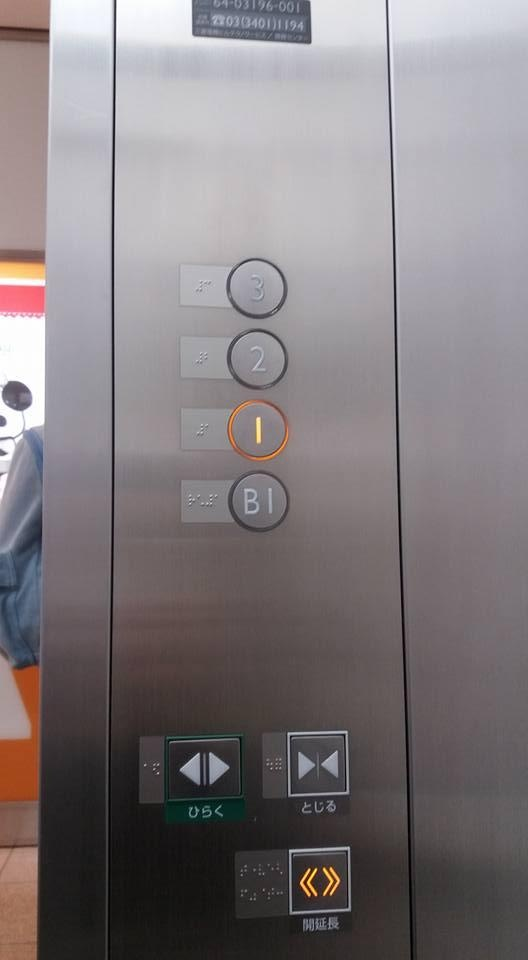1: (226, 396, 290, 463)
2: (227, 328, 289, 390)
3: (227, 257, 289, 319)
B1: (227, 467, 292, 536)
close: (281, 726, 353, 800)
open: (162, 732, 248, 805), (284, 844, 356, 918)
